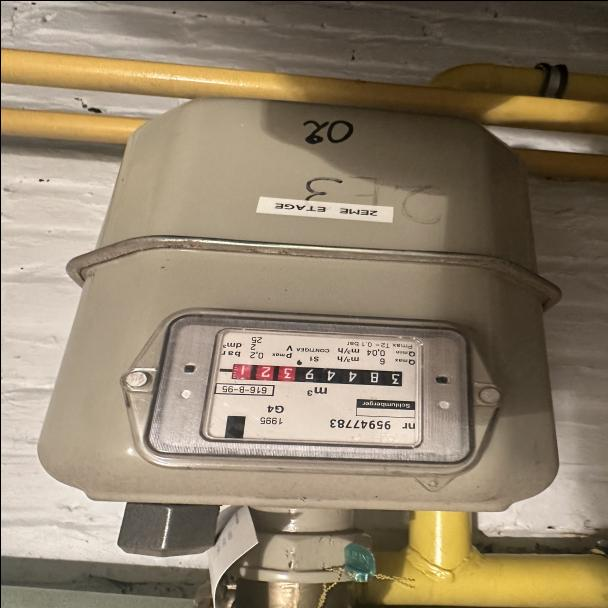1: (226, 361, 250, 383)
2: (248, 363, 276, 384)
3: (272, 364, 296, 386), (386, 369, 405, 388)
4: (339, 366, 363, 387), (318, 365, 339, 386)
8: (364, 366, 384, 388)
9: (297, 365, 319, 387)
cm: (222, 359, 296, 387)
counter: (295, 363, 409, 391)
